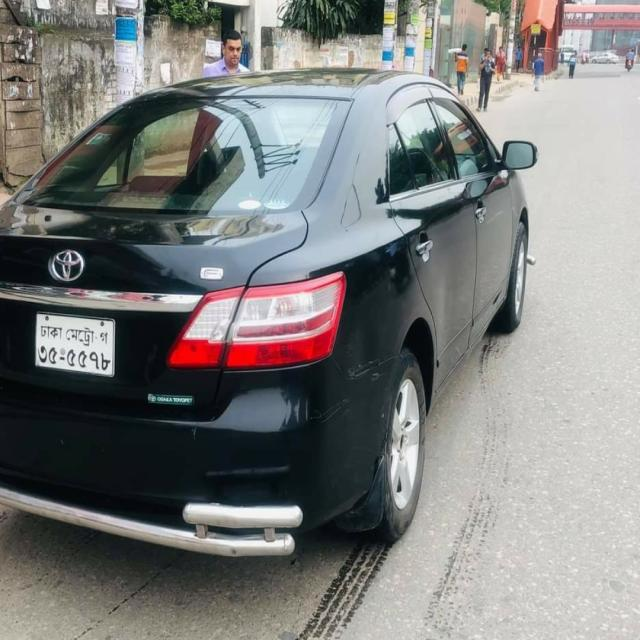black: (4, 77, 534, 560)
